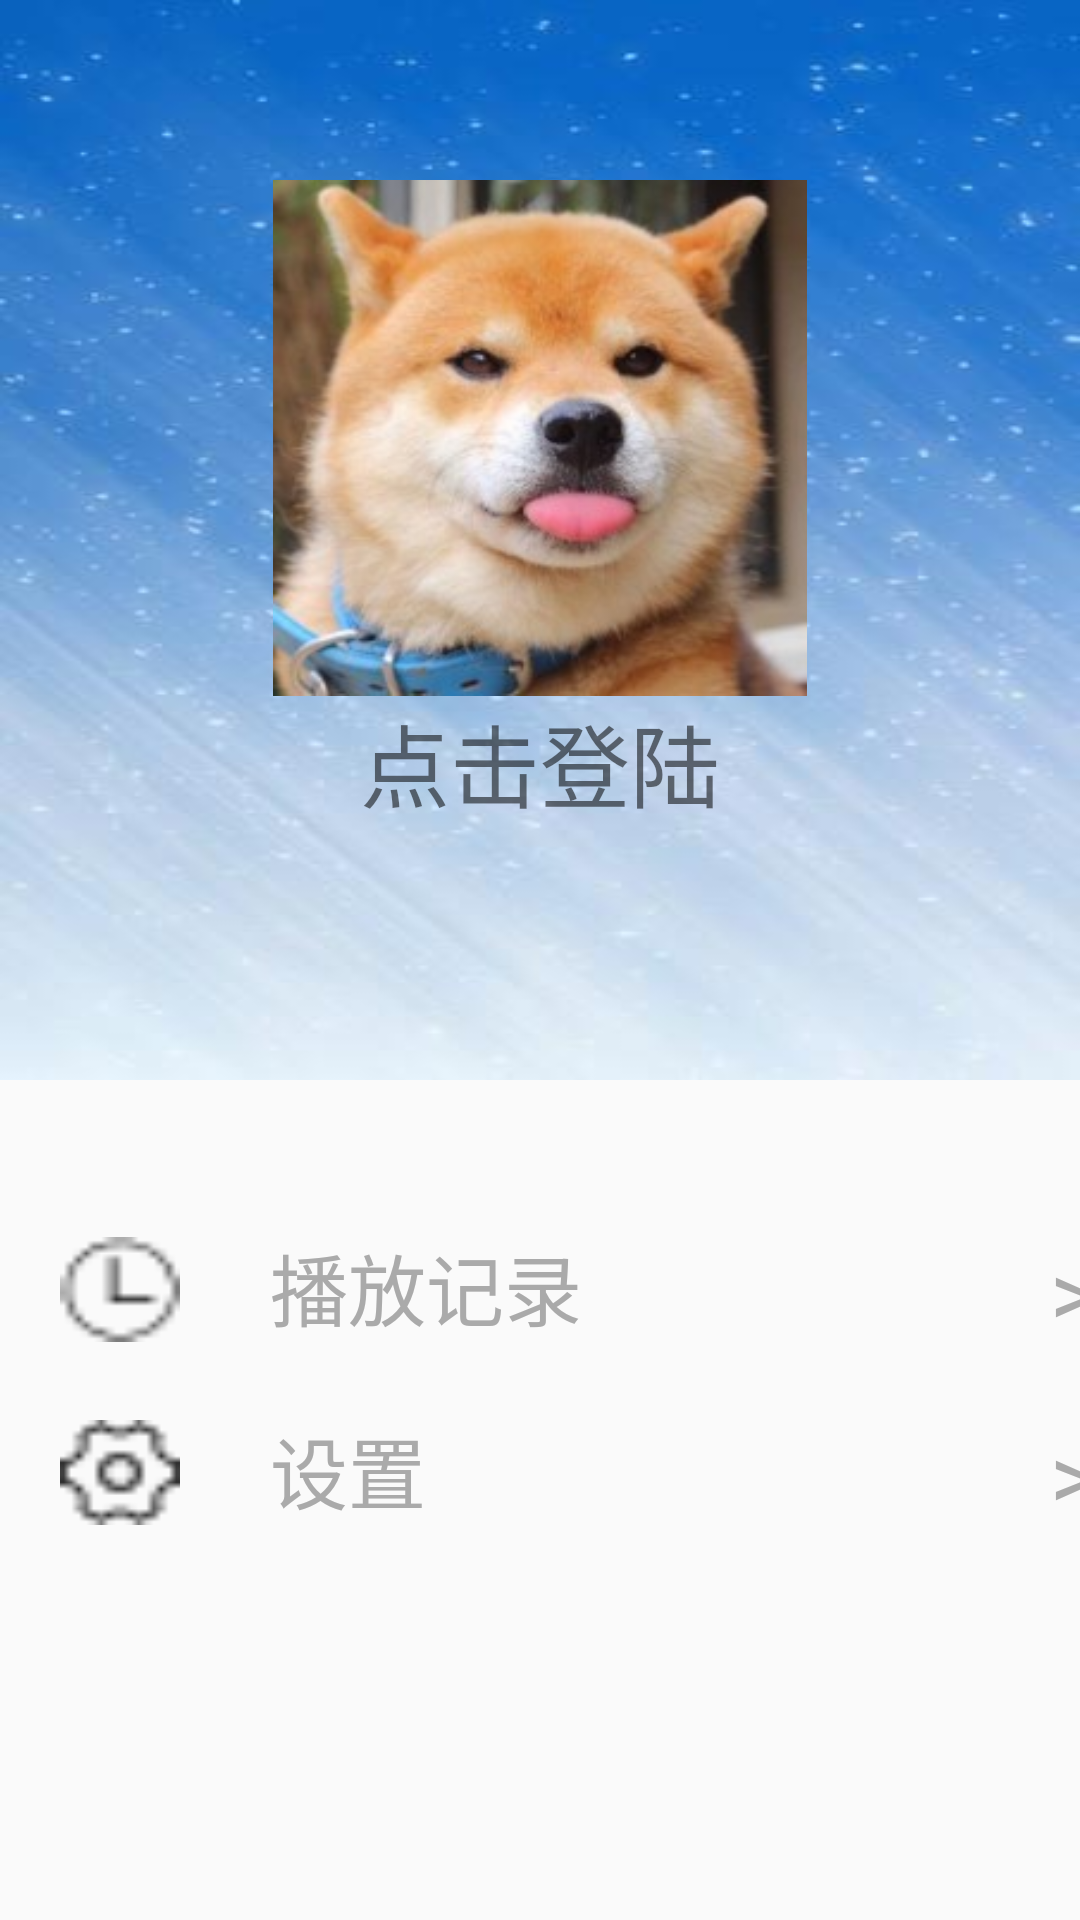

Screen size 1080px×1920px. Icon name, then its center in pixels as point (x, y):
record: point (120, 1289)
set: point (120, 1472)
